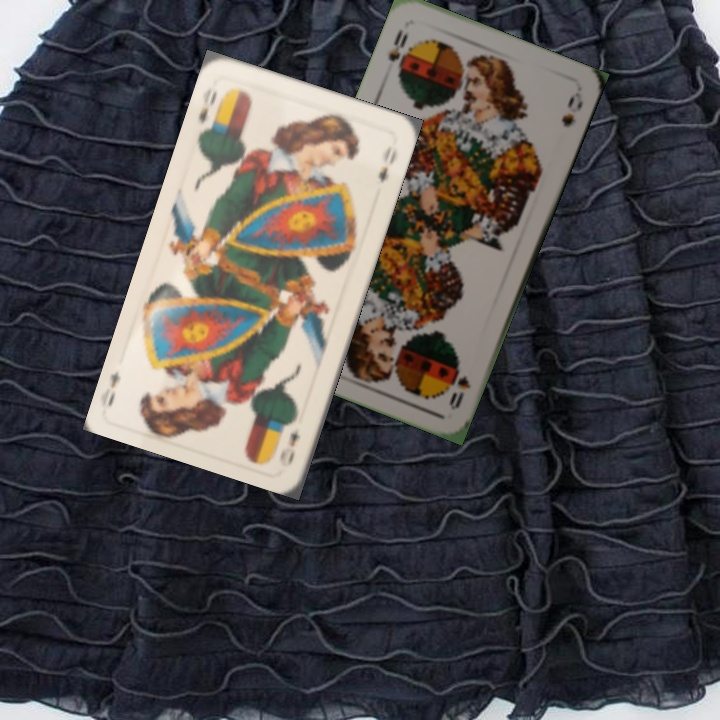EO: (194, 85, 229, 136), (275, 424, 303, 469)
SO: (445, 371, 474, 413), (384, 25, 411, 64)
